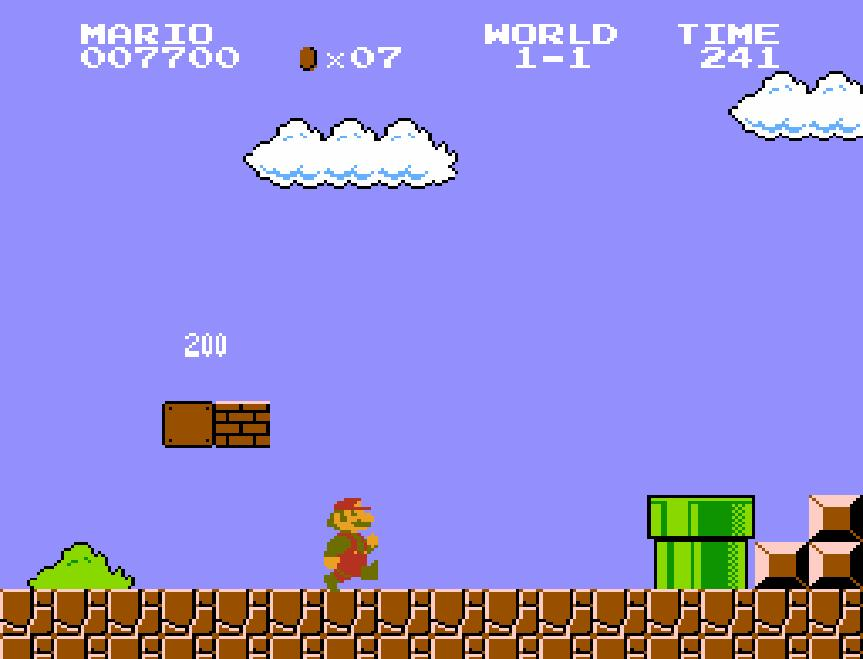big_mario: (322, 496, 380, 594)
